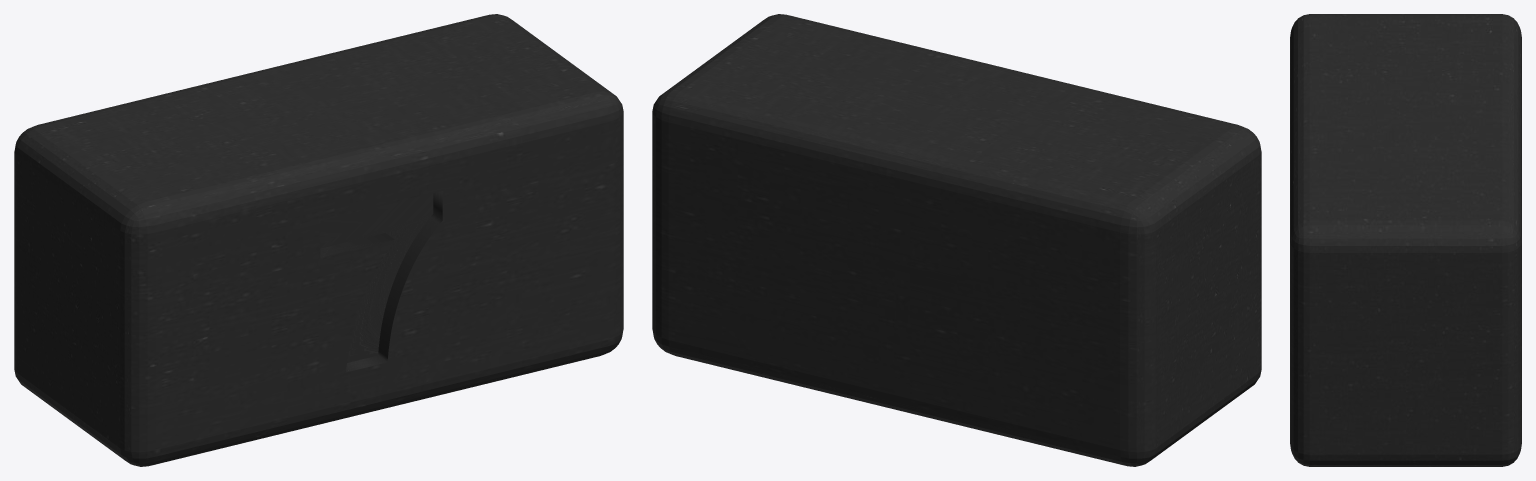
File: btn_7.glb
The picture shows the model from 3 angles, left to right: view 1: azimuth 30°, elevation 25°; view 2: azimuth 150°, elevation 25°; view 3: azimuth 270°, elevation 25°; orthographic projection. The views are drawn at different scales.
Parts seen in each view (by area): view 1: Cube.007; view 2: Cube.007; view 3: Cube.007.
Part boxes in pixels (box(x1,y1,x2,y2)): Cube.007: box(14, 14, 623, 466); Cube.007: box(652, 14, 1261, 466); Cube.007: box(1290, 14, 1521, 466).
Bounding box in the file's own units: 3.42 × 1.71 × 1.48.
2 materials, 2 textured.
